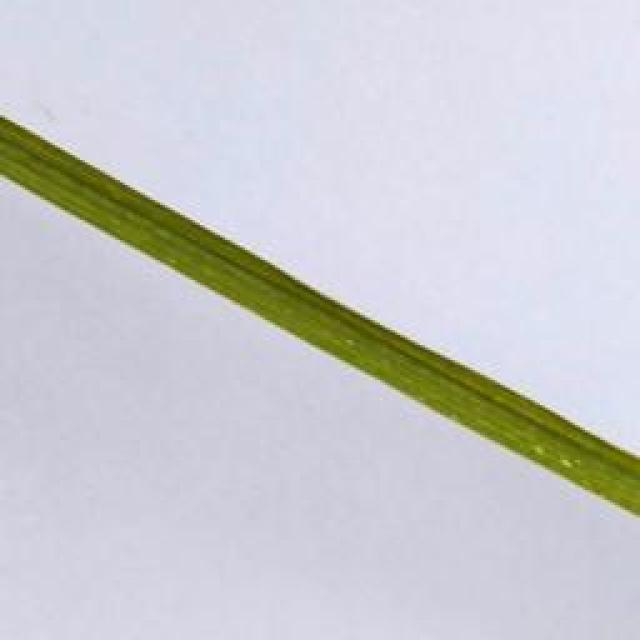Healthy-Plant: (0, 114, 640, 518)
